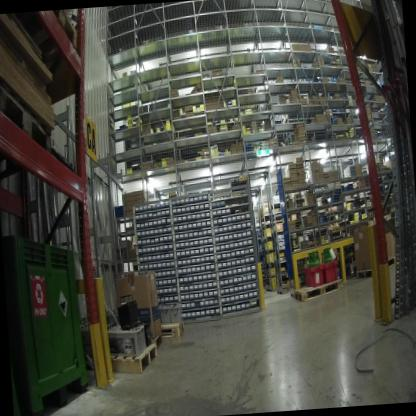pallet: (0, 15, 55, 96), (0, 77, 55, 145), (92, 338, 165, 384), (40, 14, 92, 53), (289, 277, 346, 309), (355, 255, 400, 279), (140, 326, 164, 354), (159, 317, 185, 342)
small_load_carrier: (303, 258, 327, 291), (320, 259, 342, 285)
